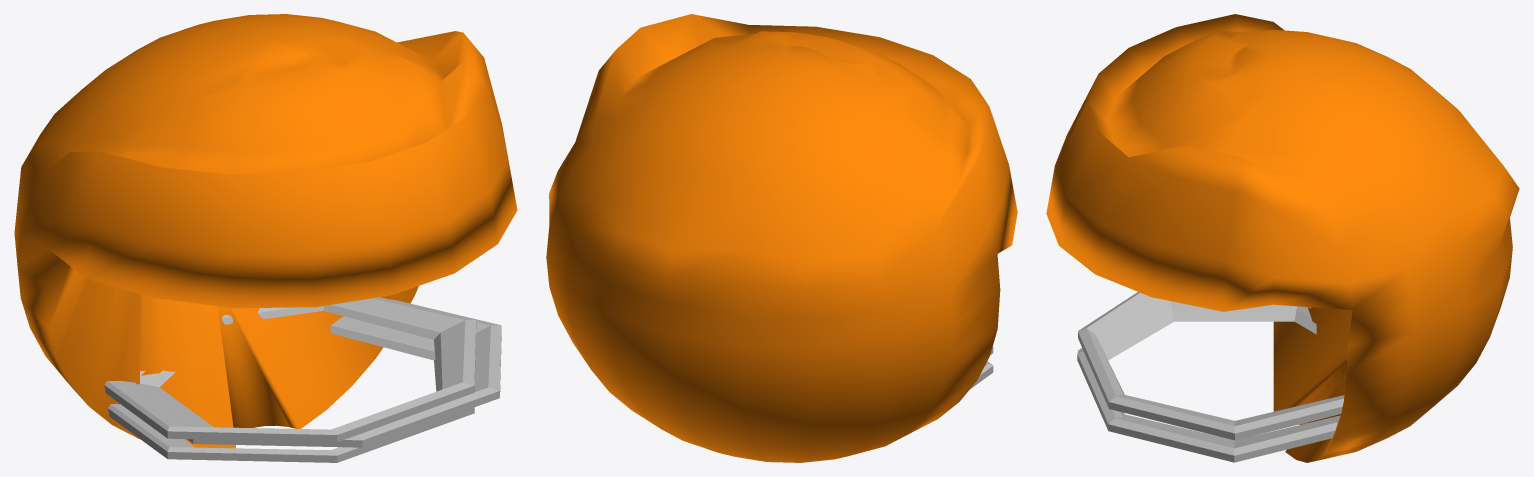
File: helmet.fbx
The picture shows the model from 3 angles, left to right: view 1: azimuth 30°, elevation 25°; view 2: azimuth 150°, elevation 25°; view 3: azimuth 270°, elevation 25°; orthographic projection. The views are drawn at different scales.
Parts seen in each view (by area): view 1: polySurface17, pasted__pasted__pTorus1, pasted__pTorus1, pasted__pasted__pasted__pTorus1; view 2: polySurface17; view 3: polySurface17, pasted__pasted__pasted__pTorus1, pasted__pasted__pTorus1, pasted__pTorus1.
Boxes of the visible parts, x1=… form: polySurface17: x1=14, y1=14, x2=517, y2=448; pasted__pasted__pTorus1: x1=104, y1=297, x2=476, y2=442; pasted__pTorus1: x1=108, y1=316, x2=474, y2=462; pasted__pasted__pasted__pTorus1: x1=137, y1=299, x2=501, y2=447; polySurface17: x1=546, y1=14, x2=1017, y2=462; polySurface17: x1=1046, y1=14, x2=1519, y2=462; pasted__pasted__pasted__pTorus1: x1=1077, y1=301, x2=1339, y2=462; pasted__pasted__pTorus1: x1=1078, y1=292, x2=1344, y2=440; pasted__pTorus1: x1=1078, y1=348, x2=1340, y2=442.
Size of the model in its own units: 68.51 by 58.45 by 65.97.
